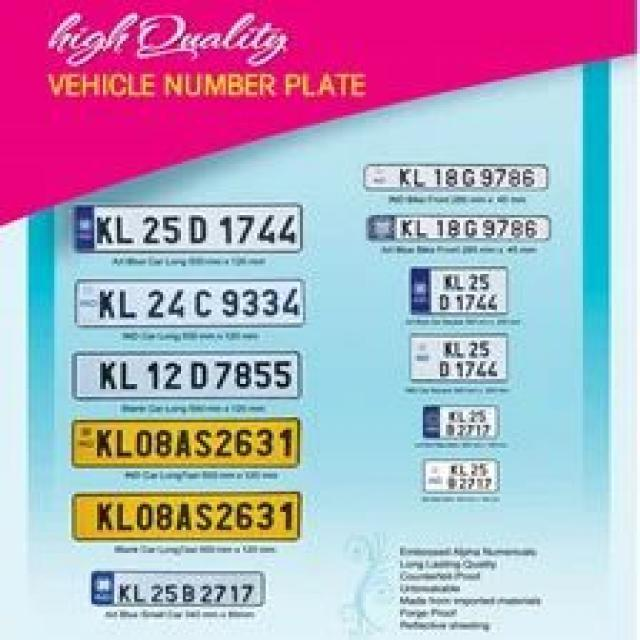License_Plate: (71, 201, 303, 254), (73, 492, 304, 542), (73, 421, 300, 468), (69, 356, 299, 402), (73, 284, 304, 324), (90, 570, 266, 608), (406, 266, 509, 315), (414, 333, 508, 382), (363, 166, 551, 190), (368, 216, 552, 240), (425, 460, 505, 496), (421, 405, 497, 435)
